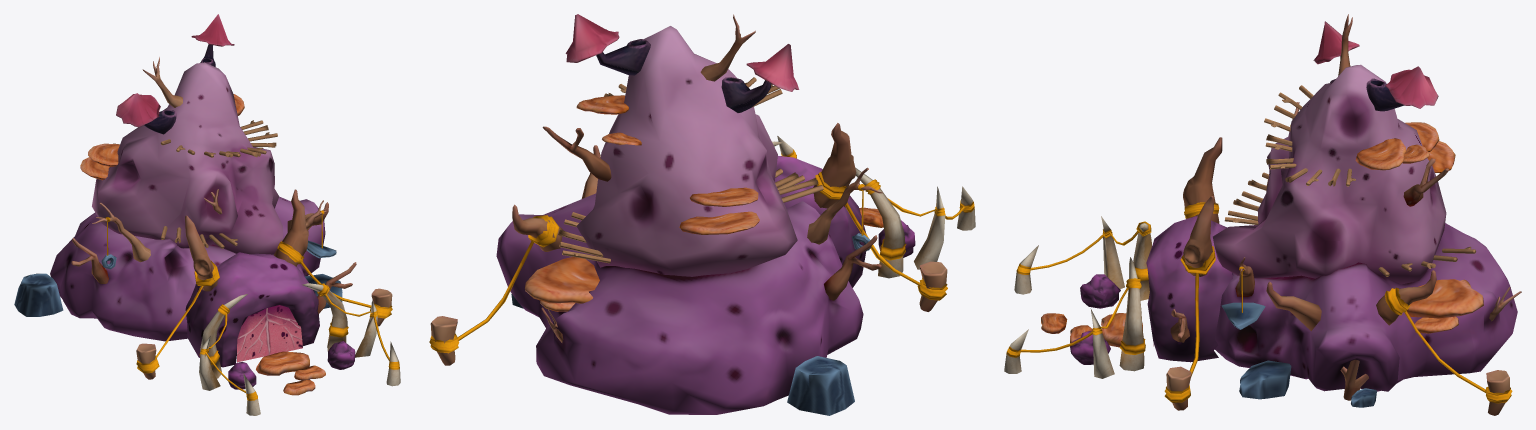
The model's file is Choza_Krakee.obj.
3 views of the same model, side by side, from view 1: azimuth 30°, elevation 25°; view 2: azimuth 150°, elevation 25°; view 3: azimuth 270°, elevation 25° (orthographic). The views are drawn at different scales.
Bounding box in the file's own units: 9.68 × 8.54 × 12.95.
